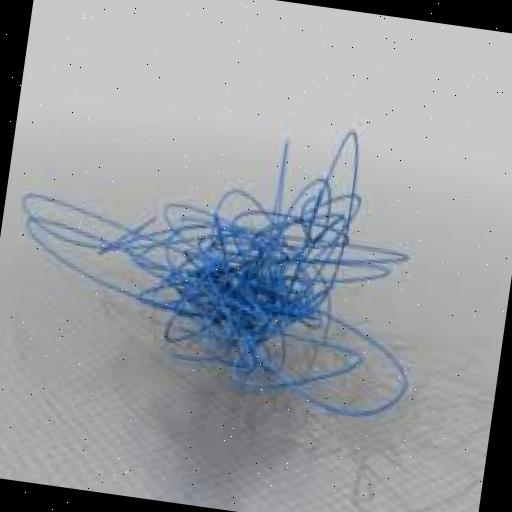spaghetti: (55, 100, 447, 466)
